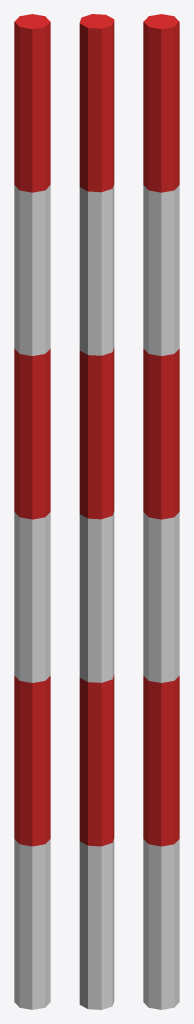
File: snowpole.glb
The picture shows the model from 3 angles, left to right: view 1: azimuth 90°, elevation 25°; view 2: azimuth 150°, elevation 25°; view 3: azimuth 270°, elevation 25°; orthographic projection.
Visible parts, largest first — view 1: p.005, p.004, p, p.001, p.002, p.003; view 2: p.005, p.001, p.002, p.004, p.003, p; view 3: p.005, p.004, p, p.001, p.002, p.003.
Boxes of the visible parts, <box> form: p.005: <box>14,14,50,192</box>; p.004: <box>14,185,50,355</box>; p: <box>14,839,50,1009</box>; p.001: <box>14,675,50,846</box>; p.002: <box>14,512,50,682</box>; p.003: <box>14,349,50,519</box>; p.005: <box>79,14,114,192</box>; p.001: <box>79,674,114,846</box>; p.002: <box>79,511,114,682</box>; p.004: <box>79,184,114,355</box>; p.003: <box>79,347,114,519</box>; p: <box>79,838,114,1009</box>; p.005: <box>143,14,179,192</box>; p.004: <box>143,185,179,355</box>; p: <box>143,839,179,1009</box>; p.001: <box>143,675,179,846</box>; p.002: <box>143,512,179,682</box>; p.003: <box>143,349,179,519</box>.
Size of the model in its own units: 0.1 by 3 by 0.1.
